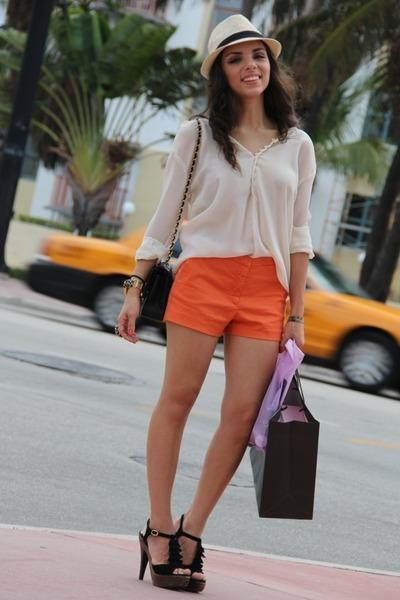Shorts: (161, 254, 293, 341)
long sleeve shirt: (135, 116, 317, 290)
